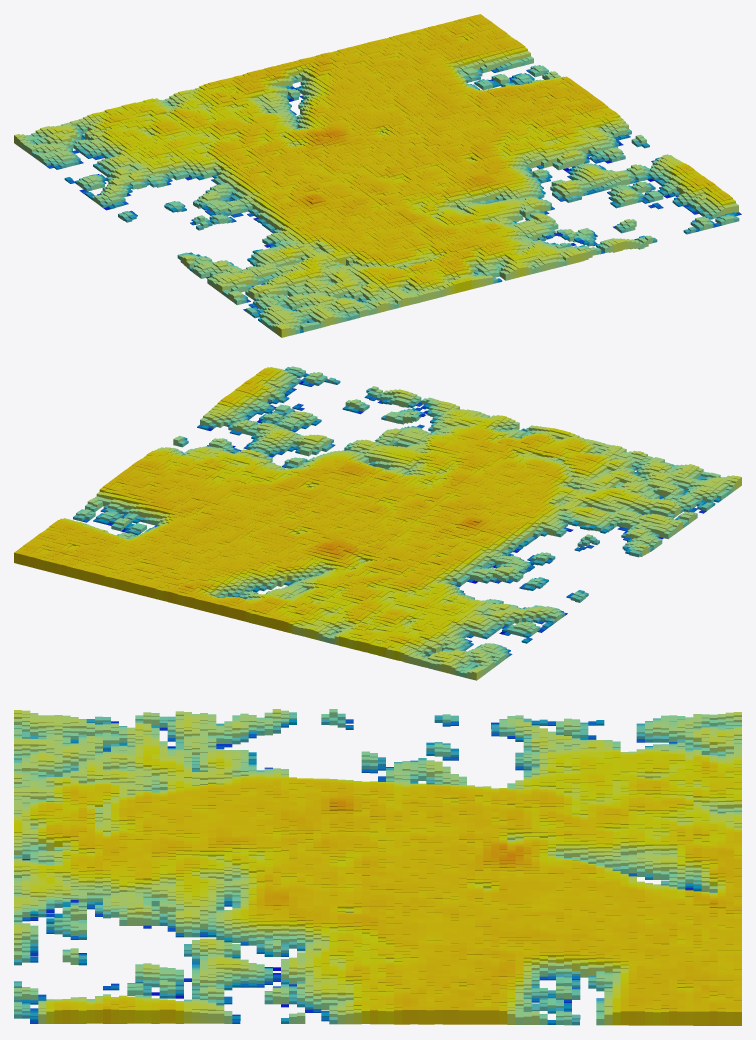
The model's file is population.glb.
3 views of the same model, one above another, from view 1: azimuth 30°, elevation 25°; view 2: azimuth 150°, elevation 25°; view 3: azimuth 270°, elevation 25° (orthographic). The views are drawn at different scales.
Visible parts, largest first — view 1: population; view 2: population; view 3: population.
Boxes of the visible parts, x1=… form: population: x1=14, y1=14, x2=741, y2=337; population: x1=14, y1=366, x2=741, y2=680; population: x1=14, y1=709, x2=741, y2=1025.
Bounding box in the file's own units: 9030 × 499 × 8968.
